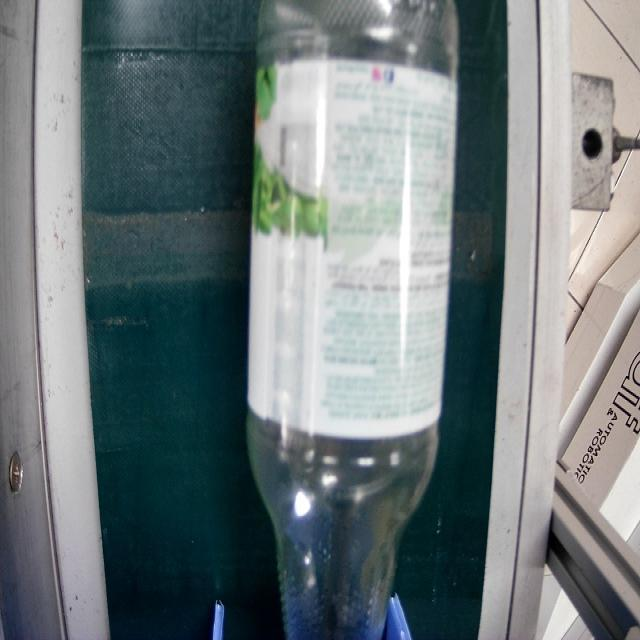Glass: (247, 0, 453, 640)
